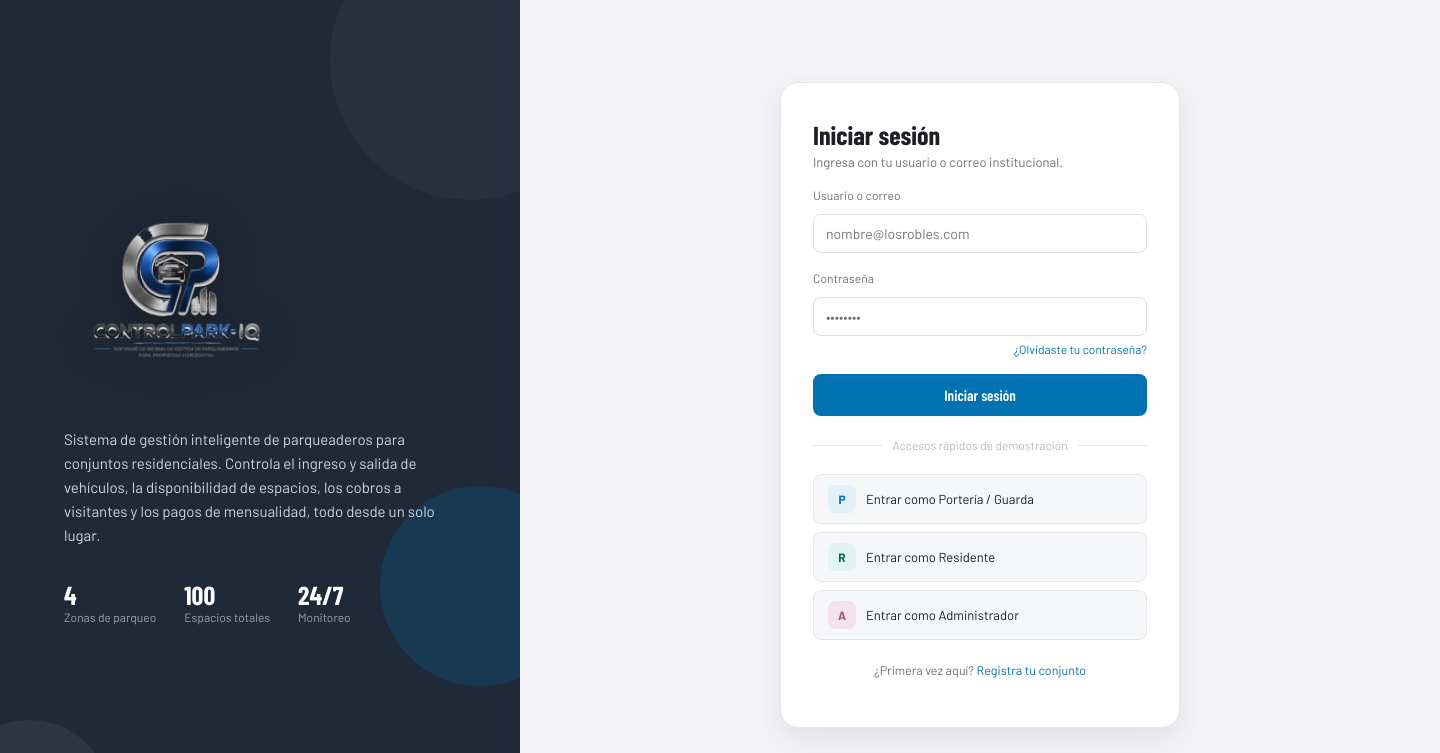
navegación por rol › Residente recorre sus seis pantallas
Click the button "R Entrar como Residente" at (980, 557), box left=813, top=532, right=1147, bottom=582
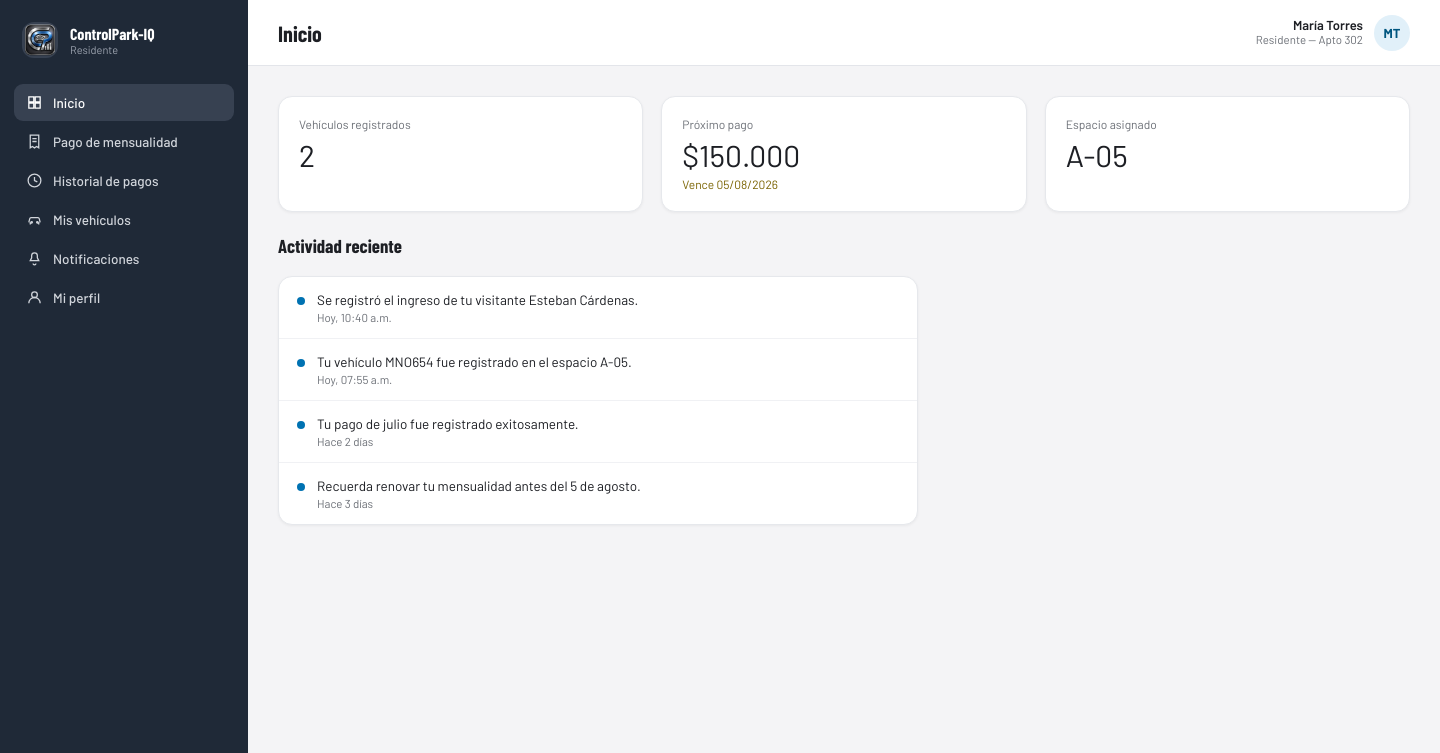
expect the text "Próximo pago" is shown: met, box left=682, top=117, right=753, bottom=131
Click the link "Pago de mensualidad" at (102, 142), box left=26, top=133, right=178, bottom=150
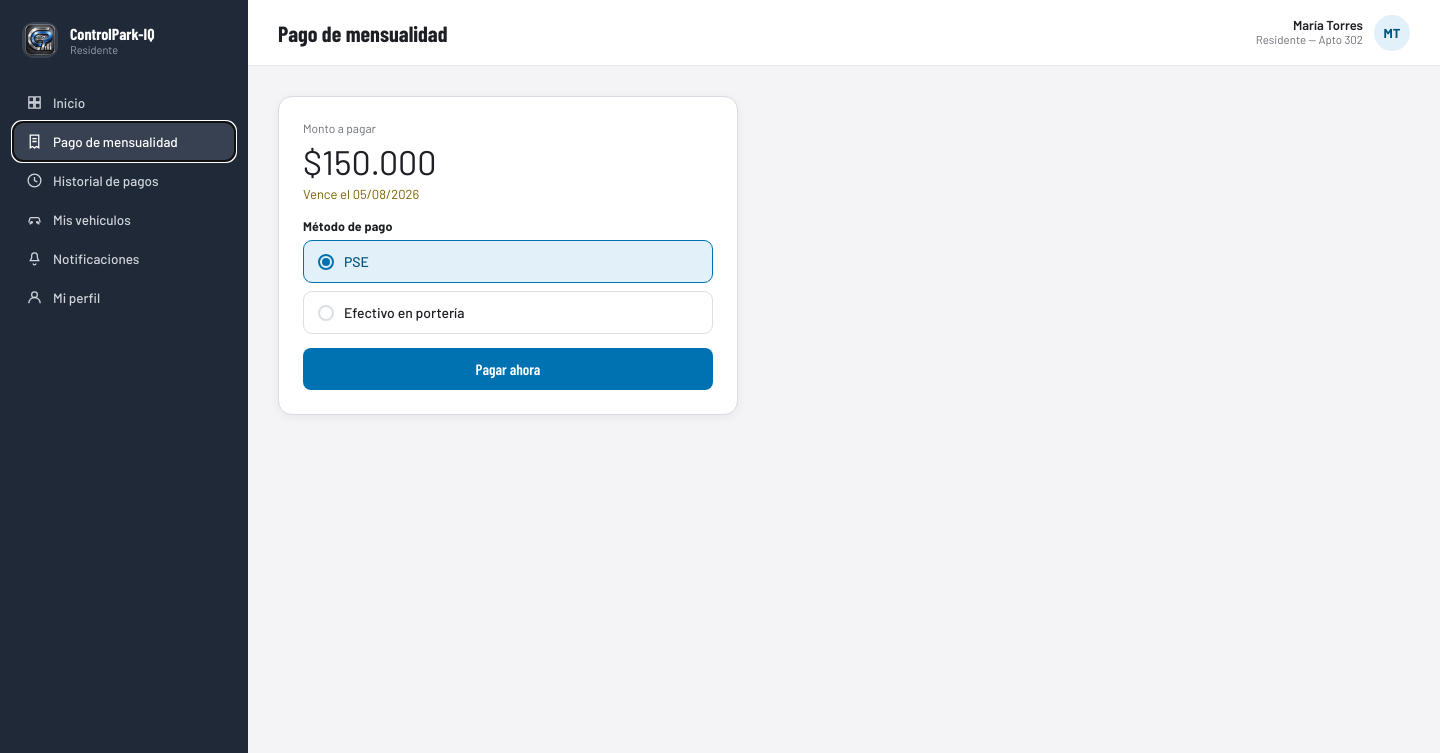
expect the heading "Pago de mensualidad" is shown: met, box left=278, top=20, right=448, bottom=46
Click the link "Historial de pagos" at (92, 180), box left=26, top=172, right=159, bottom=189
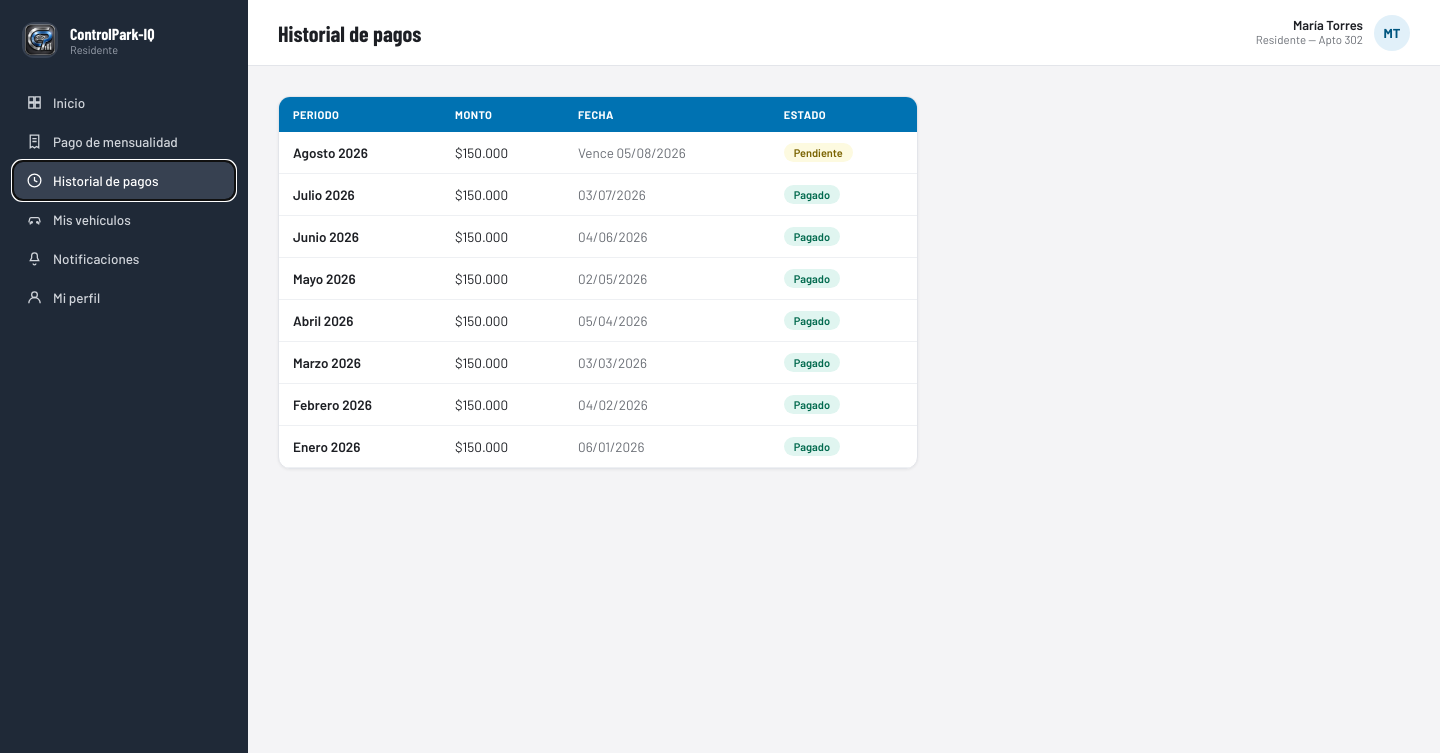
expect the heading "Historial de pagos" is shown: met, box left=278, top=20, right=421, bottom=46
Click the link "Mis vehículos" at (78, 220), box left=26, top=211, right=131, bottom=228
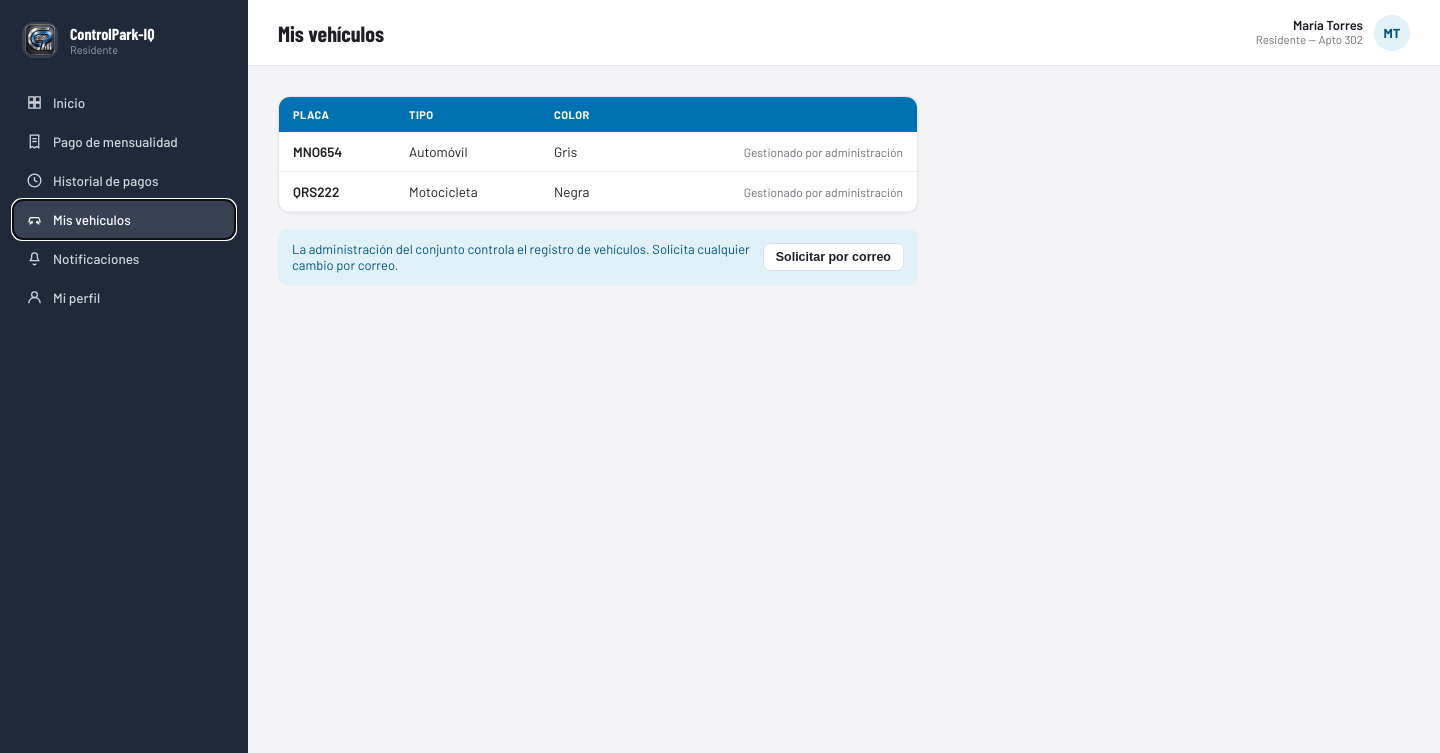
expect the heading "Mis vehículos" is shown: met, box left=278, top=20, right=384, bottom=46
Click the link "Notificaciones" at (83, 258), box left=26, top=250, right=139, bottom=267
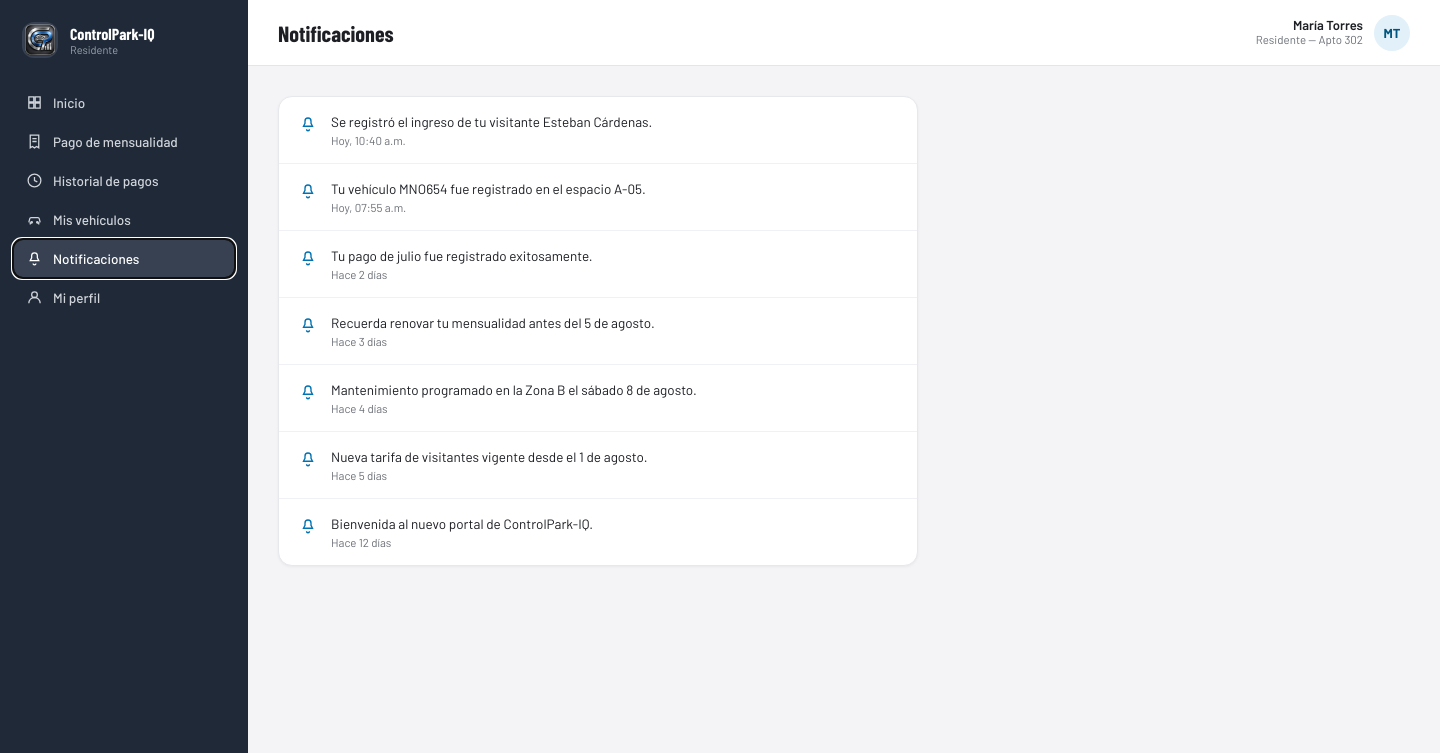
expect the heading "Notificaciones" is shown: met, box left=278, top=20, right=394, bottom=46
Click the link "Mi perfil" at (63, 298), box left=26, top=289, right=100, bottom=306
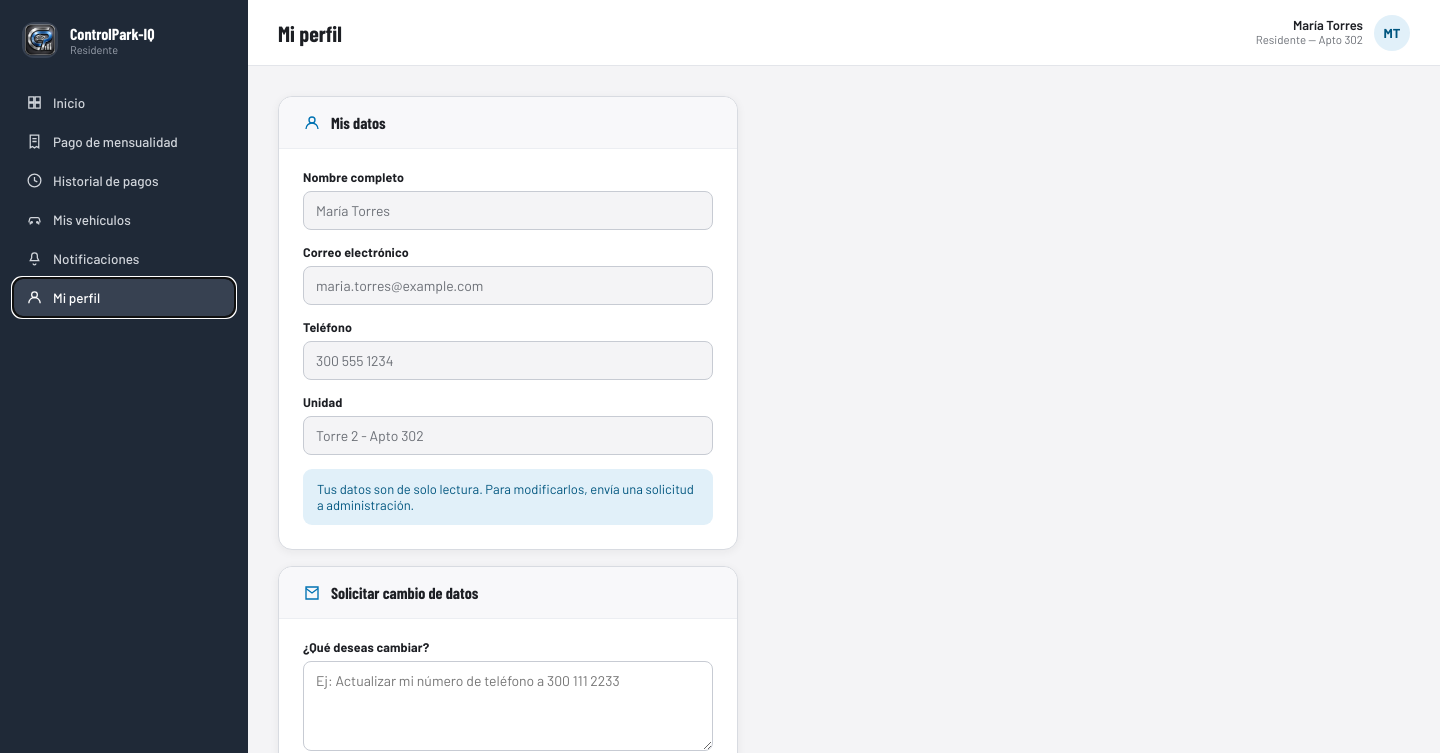
expect the heading "Mi perfil" is shown: met, box left=278, top=20, right=342, bottom=46
